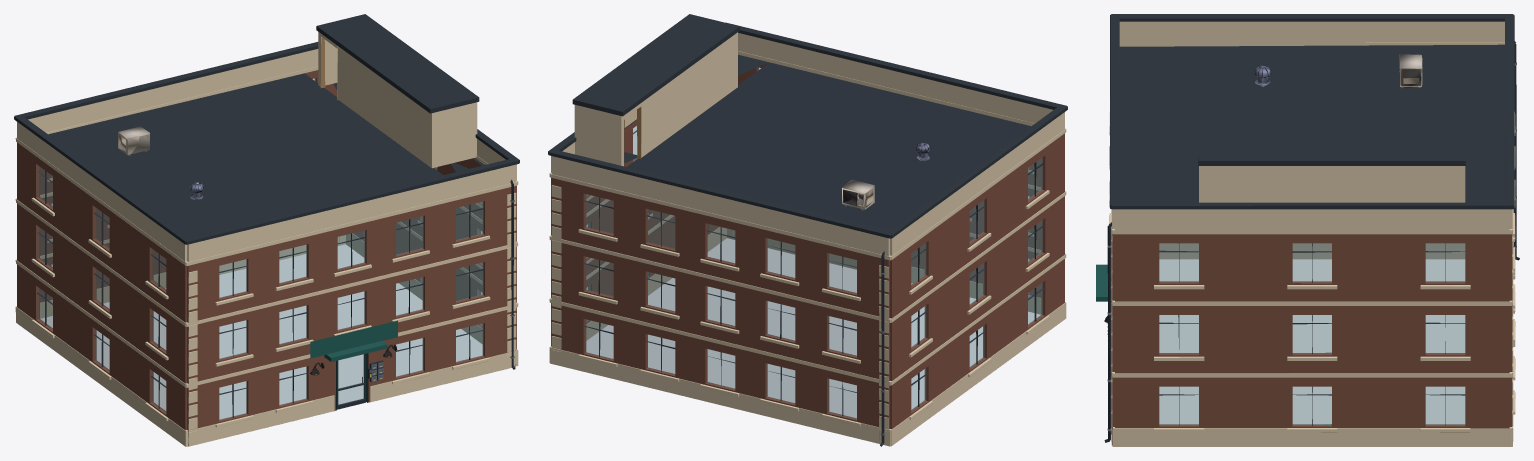
The model's file is city-apartments-lod.glb.
3 views of the same model, side by side, from view 1: azimuth 30°, elevation 25°; view 2: azimuth 150°, elevation 25°; view 3: azimuth 270°, elevation 25° (orthographic). The views are drawn at different scales.
Parts seen in each view (by area): view 1: shell-apt-grout--1, roof-apt-navy-3, roof-apt-cream-3, shell-apt-cream--1, shell-apt-glass--1, roof-apt-navy--1, shell-apt-navy--1, shell-apt-teal--1, door glass, shell-meshy-roof-ac--1; view 2: shell-apt-grout--1, roof-apt-navy-3, shell-apt-cream--1, roof-apt-cream-3, shell-apt-glass--1, roof-apt-navy--1, shell-apt-navy--1, shell-meshy-roof-ac--1; view 3: shell-apt-grout--1, roof-apt-navy-3, roof-apt-cream-3, shell-apt-cream--1, roof-apt-navy--1, shell-apt-glass--1, shell-apt-navy--1, shell-meshy-roof-ac--1, shell-apt-teal--1.
Boxes of the visible parts, bbox=[...] form: shell-apt-grout--1: bbox=[17, 70, 516, 446]; roof-apt-navy-3: bbox=[48, 73, 484, 237]; roof-apt-cream-3: bbox=[17, 32, 516, 261]; shell-apt-cream--1: bbox=[15, 66, 518, 446]; shell-apt-glass--1: bbox=[38, 78, 483, 420]; roof-apt-navy--1: bbox=[14, 14, 519, 244]; shell-apt-navy--1: bbox=[37, 170, 515, 417]; shell-apt-teal--1: bbox=[310, 221, 422, 410]; door glass: bbox=[338, 354, 363, 404]; shell-meshy-roof-ac--1: bbox=[118, 126, 149, 156]; shell-apt-grout--1: bbox=[551, 62, 1064, 429]; roof-apt-navy-3: bbox=[624, 54, 1030, 230]; shell-apt-cream--1: bbox=[549, 51, 1066, 446]; roof-apt-cream-3: bbox=[551, 32, 1064, 256]; shell-apt-glass--1: bbox=[585, 67, 1042, 418]; roof-apt-navy--1: bbox=[548, 14, 1067, 238]; shell-apt-navy--1: bbox=[584, 130, 1044, 446]; shell-meshy-roof-ac--1: bbox=[842, 179, 874, 210]; shell-apt-grout--1: bbox=[1112, 234, 1512, 445]; roof-apt-navy-3: bbox=[1119, 44, 1504, 201]; roof-apt-cream-3: bbox=[1112, 21, 1512, 230]; shell-apt-cream--1: bbox=[1109, 42, 1515, 446]; roof-apt-navy--1: bbox=[1110, 14, 1514, 209]; shell-apt-glass--1: bbox=[1159, 243, 1465, 425]; shell-apt-navy--1: bbox=[1104, 41, 1519, 442]; shell-meshy-roof-ac--1: bbox=[1399, 54, 1422, 88]; shell-apt-teal--1: bbox=[1096, 264, 1331, 424].
Bounding box in the file's own units: 18.45 × 12.75 × 17.19.
Materials: 12 (3 with a texture image).
